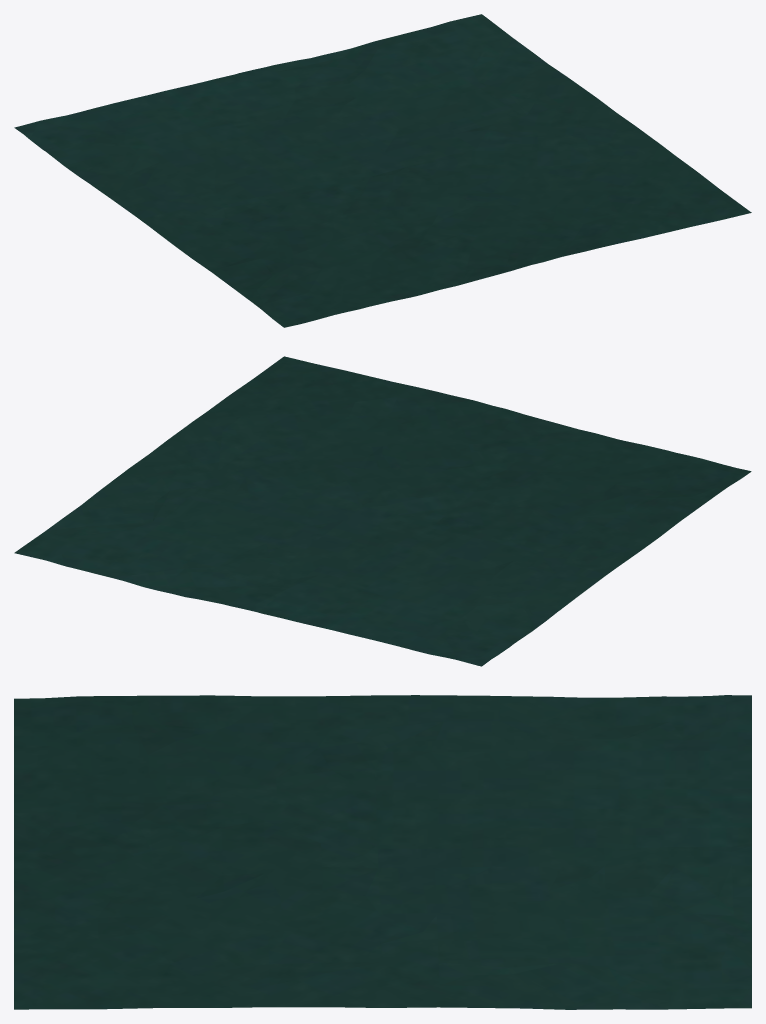
3 renders of one model, top to bottom at view 1: azimuth 30°, elevation 25°; view 2: azimuth 150°, elevation 25°; view 3: azimuth 270°, elevation 25°, orthographic. The views are drawn at different scales.
Bounding box in the file's own units: 52.22 × 0.4383 × 52.22.
Materials: 2 (2 with a texture image).
